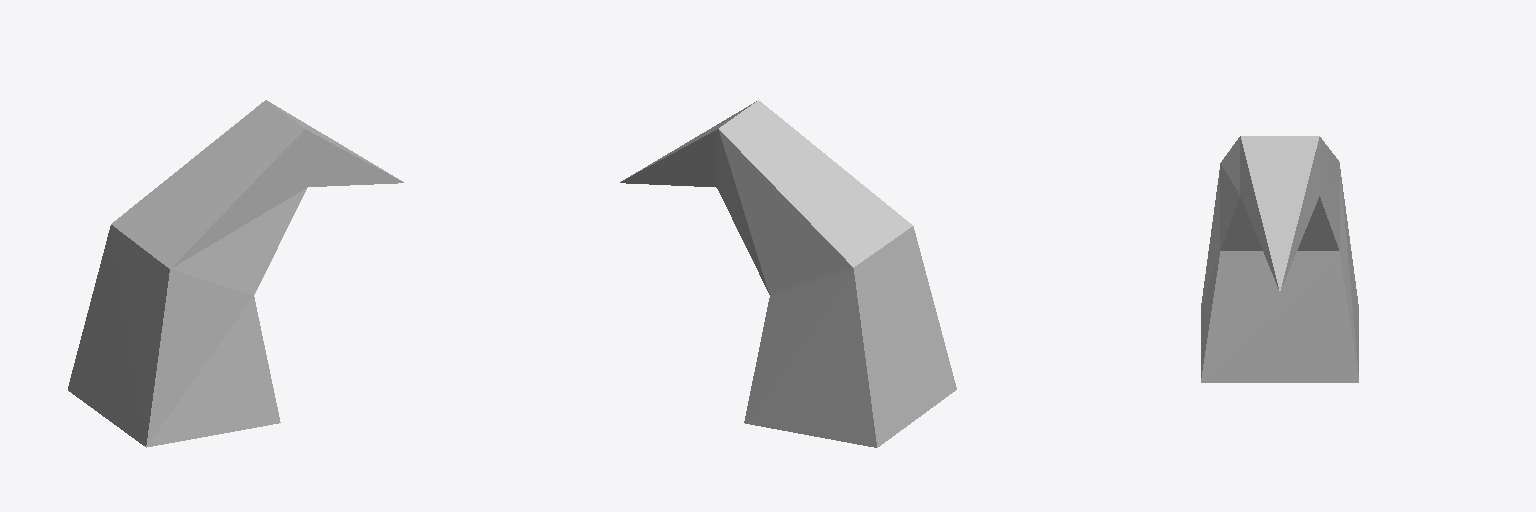
The model's file is skeletal_000031.obj.
3 views of the same model, side by side, from view 1: azimuth 30°, elevation 25°; view 2: azimuth 150°, elevation 25°; view 3: azimuth 270°, elevation 25° (orthographic).
Parts seen in each view (by area): view 1: Cube; view 2: Cube; view 3: Cube.
Part boxes in pixels (x1,y1,x2,y2): Cube: (68,100,403,447); Cube: (620,100,956,447); Cube: (1201,136,1358,382).
Bounding box in the file's own units: 4.35 × 3.74 × 2.